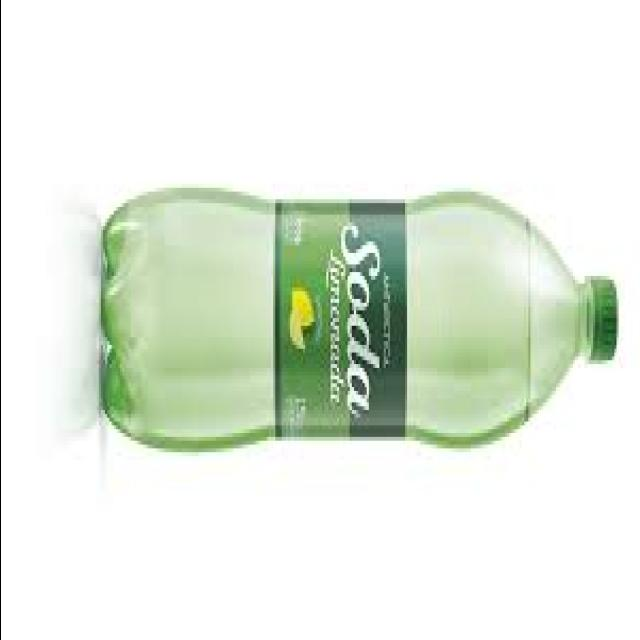bottom: (91, 176, 155, 469)
cap: (574, 240, 628, 388)
